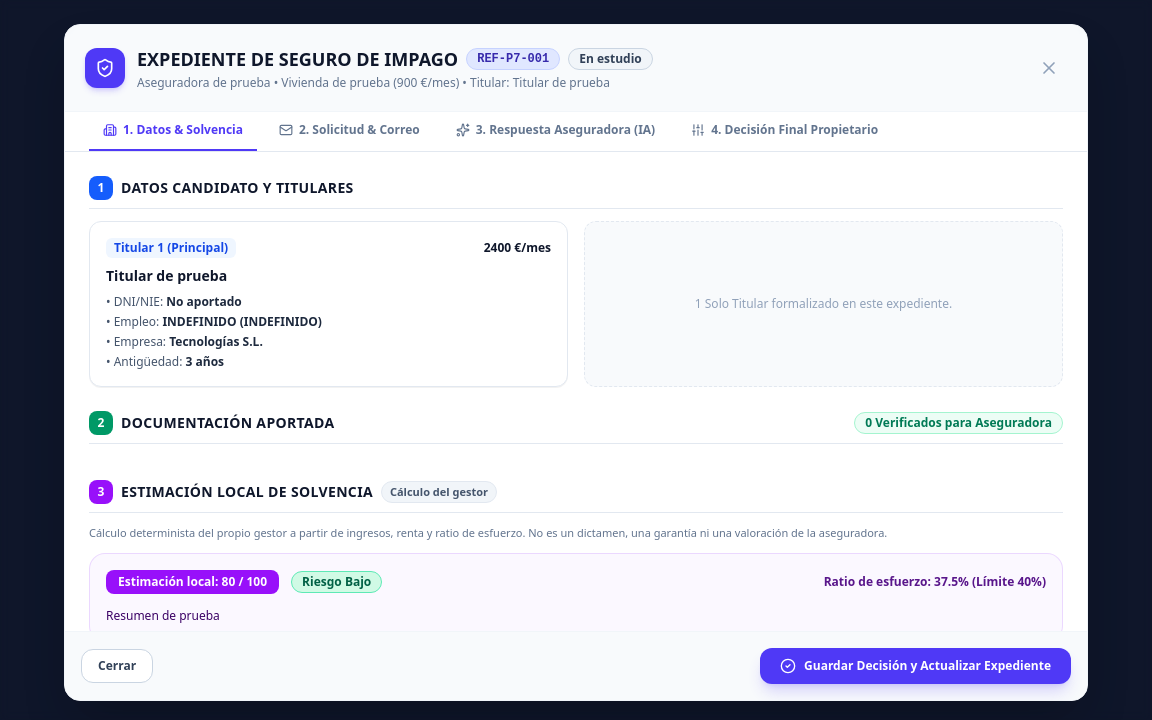
Test: DetalleSolicitudSeguroModal · P7 trazabilidad de estados y procedencia › avisa de que el texto de demostración no procede de ninguna aseguradora
The image size is (1152, 720).
Step 1. Click the button "3. Respuesta Aseguradora (IA)" → (555, 131), box [442,112,669,151]
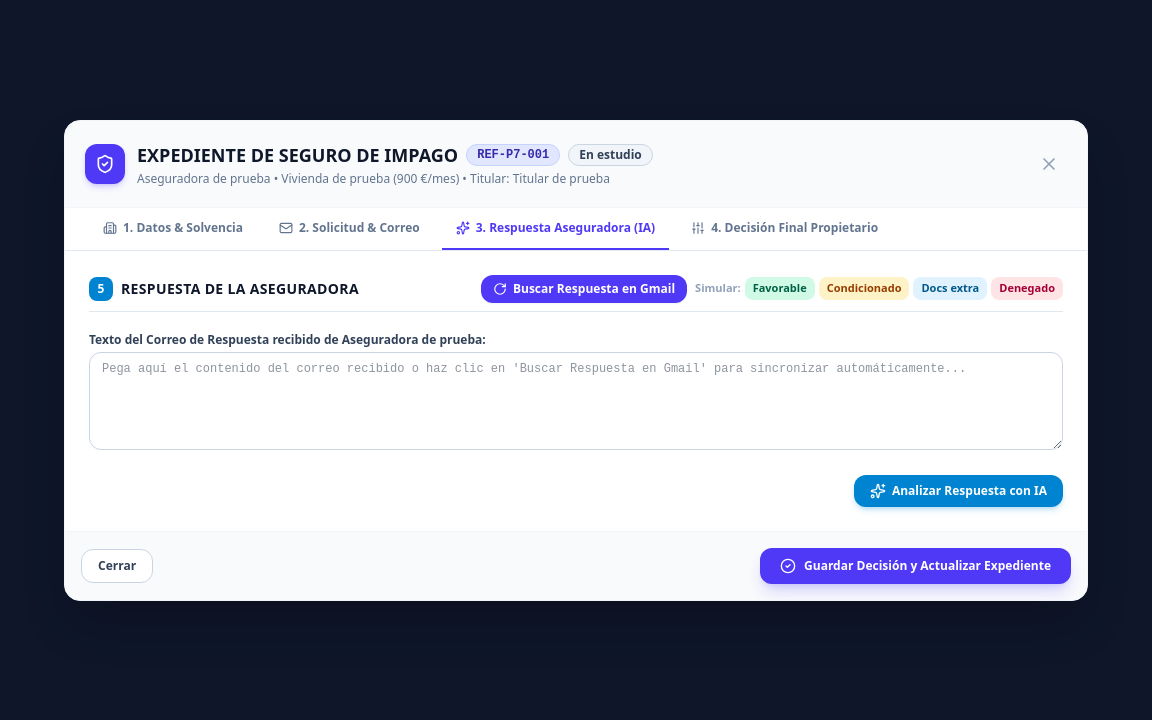
Step 2. Click the button "Favorable" → (780, 289), box [745,277,815,300]
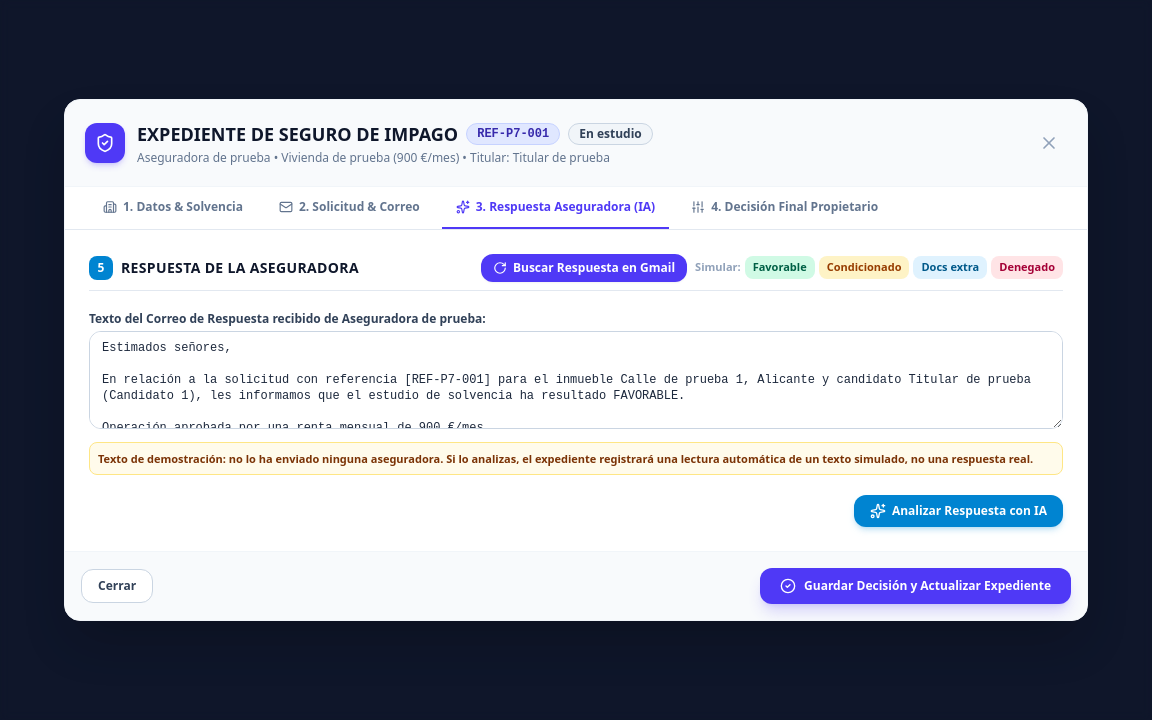
Check: the text with test id "aviso-texto-simulado" shows "no lo ha enviado ninguna aseguradora", box [98,451,1033,466]
Step 3. Replace the text in the text box labelled "Texto del Correo de Respuesta recibido" with "Texto pegado manualmente." → (576, 380), box [89,331,1063,429]
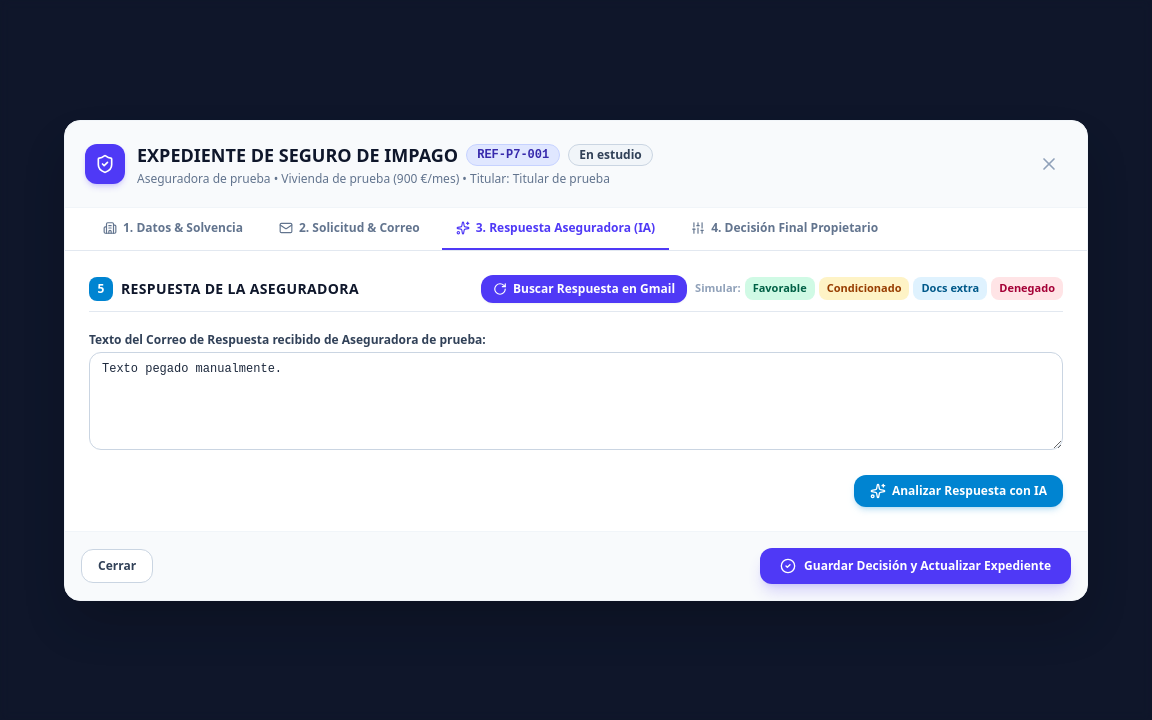
Check: the text with test id "aviso-texto-simulado" is gone
